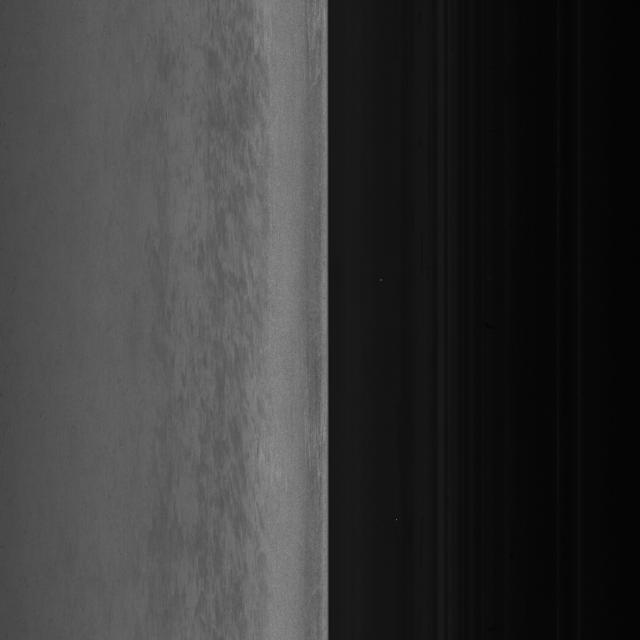inclusion: (192, 68, 272, 586)
